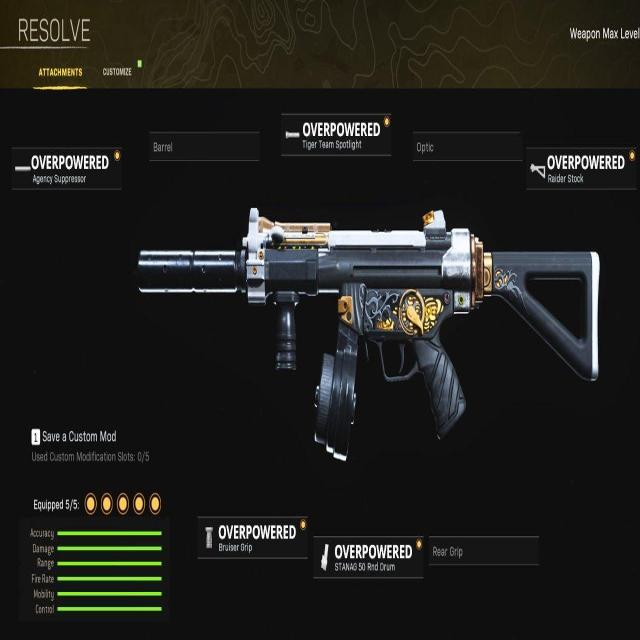weapon: (133, 203, 603, 467)
